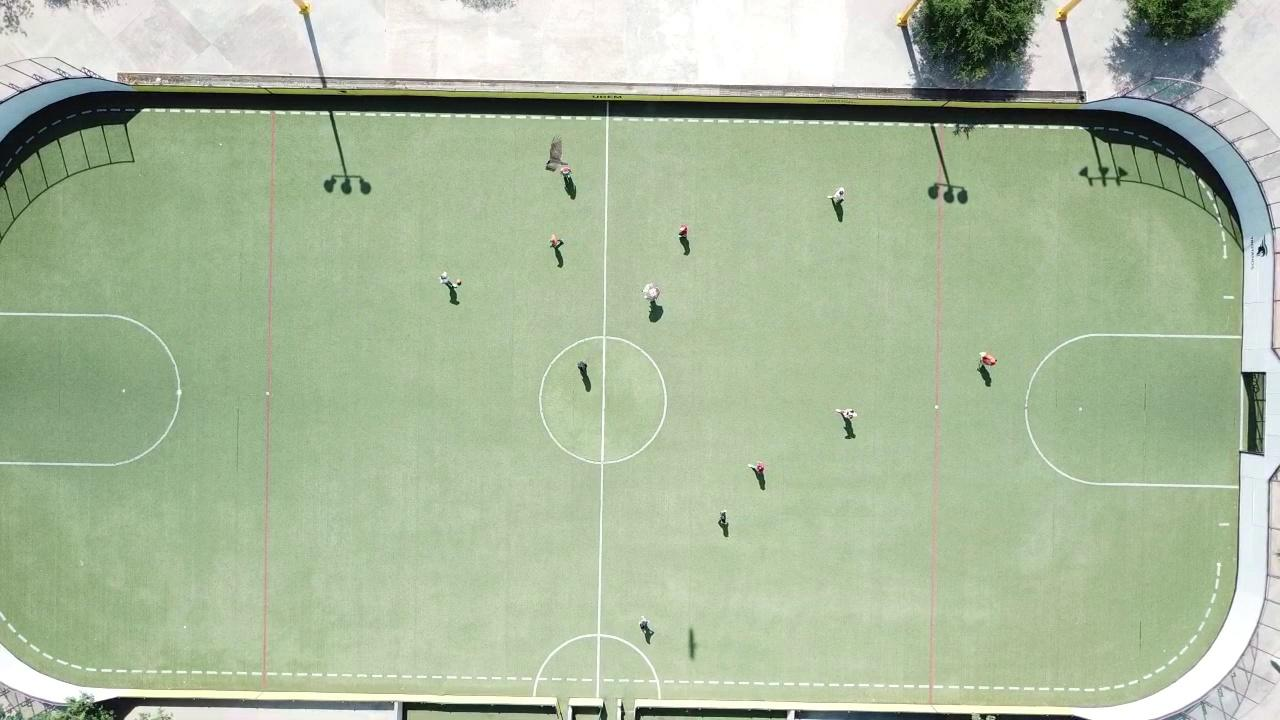ball: (456, 277, 462, 286)
player: (439, 269, 456, 289), (644, 282, 662, 300), (828, 186, 846, 204), (836, 408, 858, 421), (979, 351, 997, 366), (641, 616, 653, 635), (751, 461, 766, 475), (549, 234, 563, 249), (578, 361, 589, 374), (678, 224, 688, 238), (560, 166, 572, 177), (720, 510, 729, 524)
